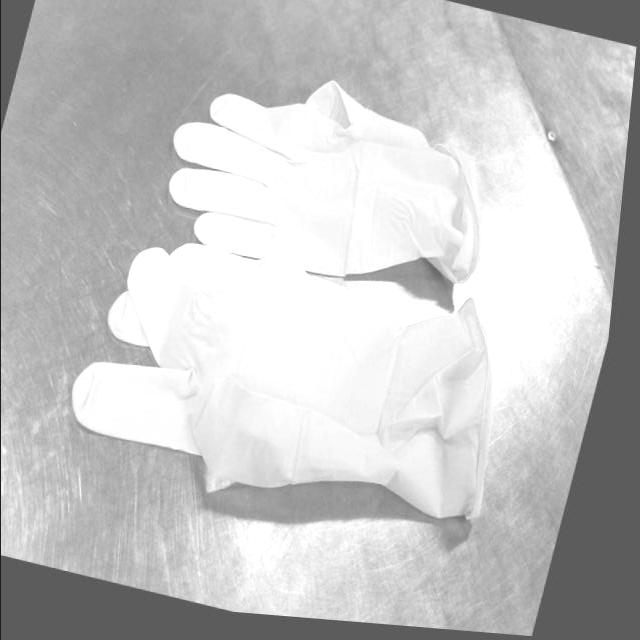General: (3, 2, 636, 636)
Infectious: (71, 243, 493, 520), (168, 79, 482, 284)
